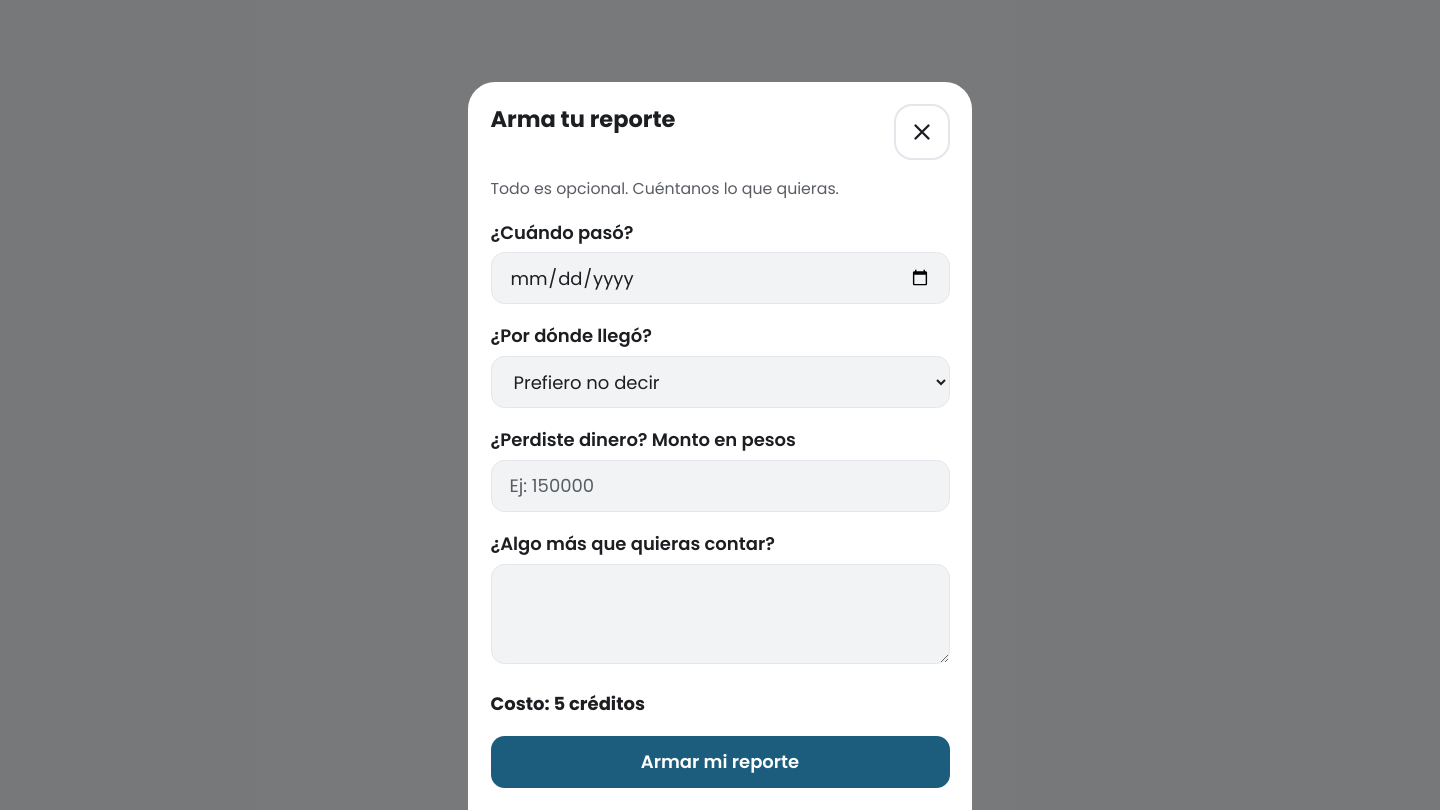
Scenario: ReportSheet › valida el monto y no envía
Type "12.5" into the field labelled "¿Perdiste dinero? Monto en pesos" at (720,486), box [490,460,950,512]
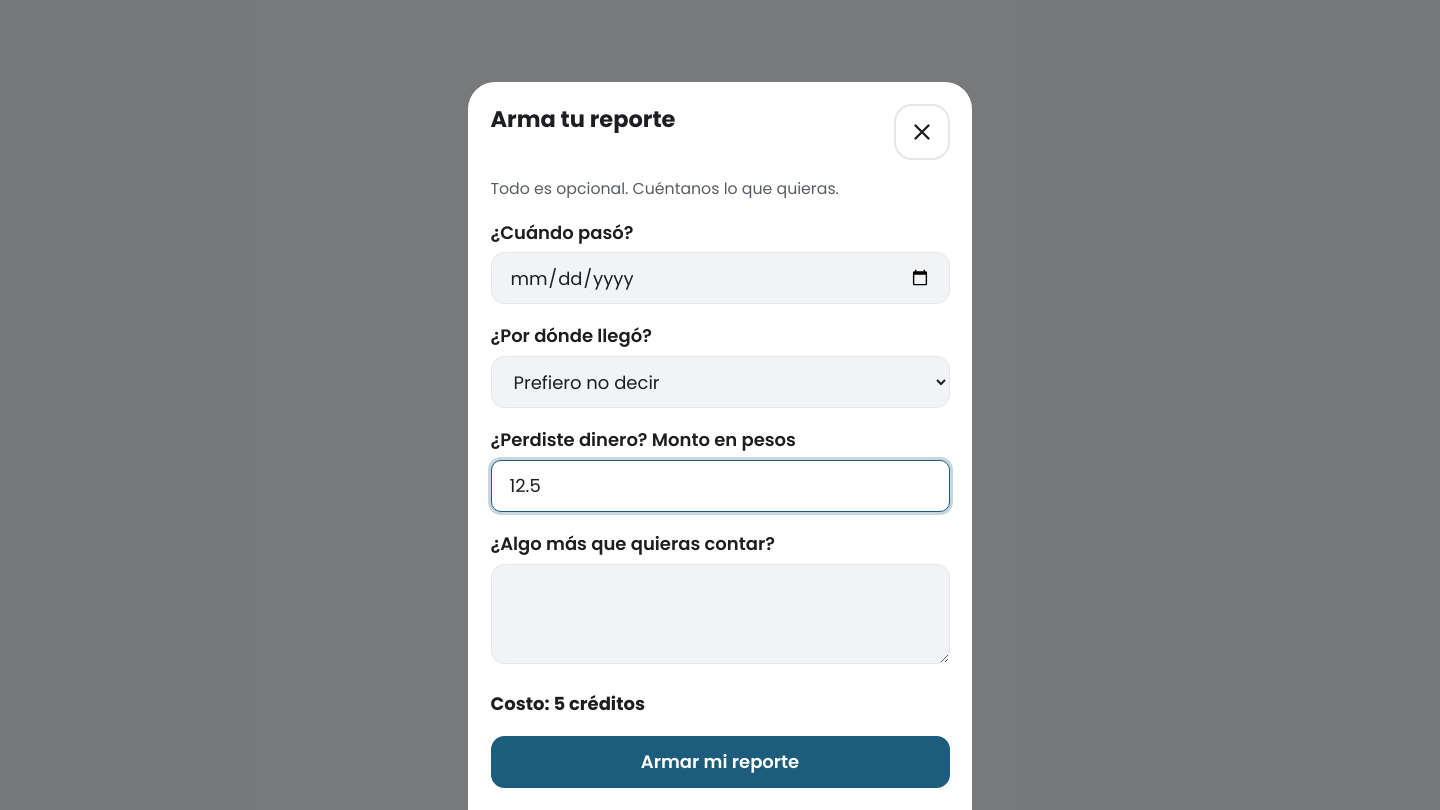
Click the button "Armar mi reporte" at (720,762), box [490,736,950,788]
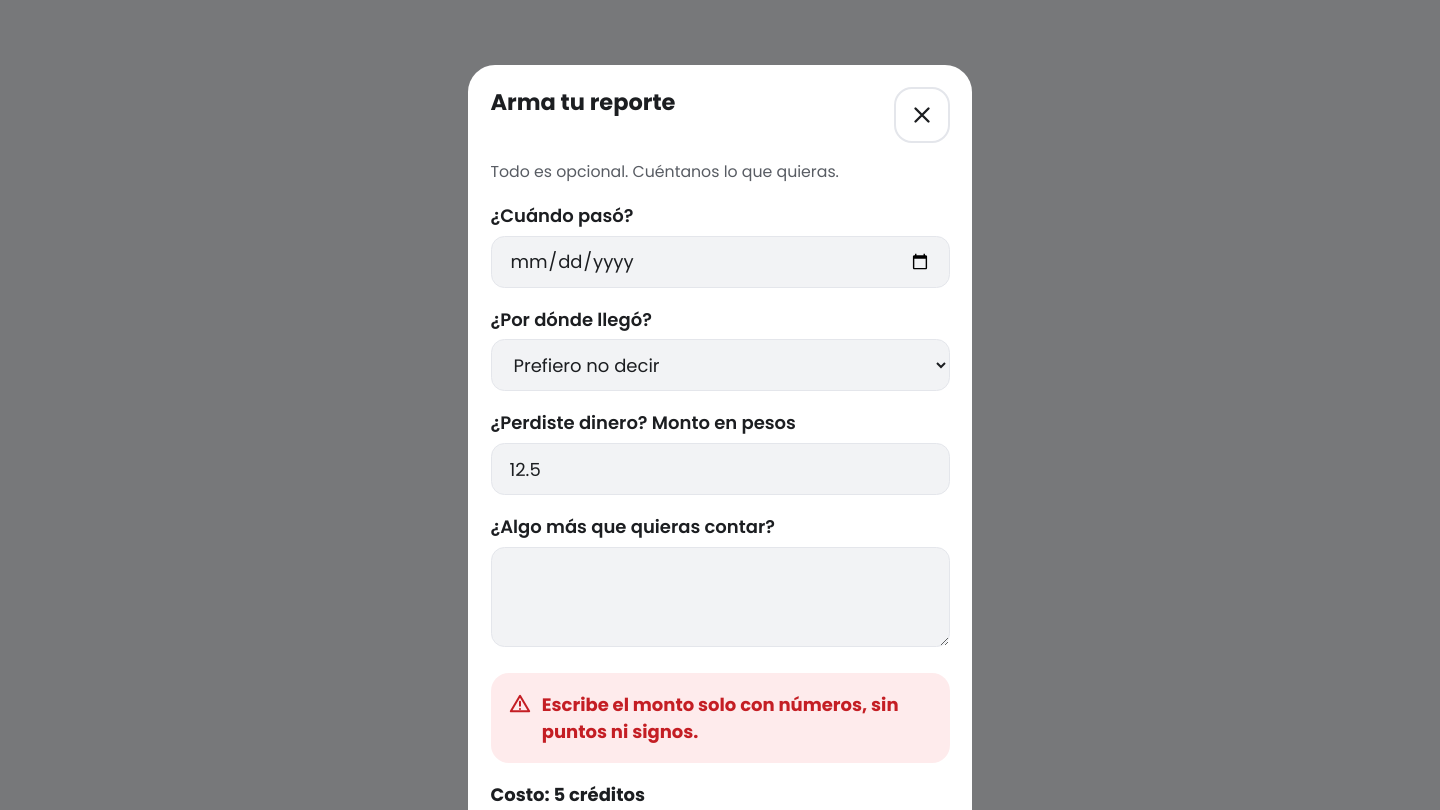
Expected: the message shows "solo con números", [542,692,899,744]
